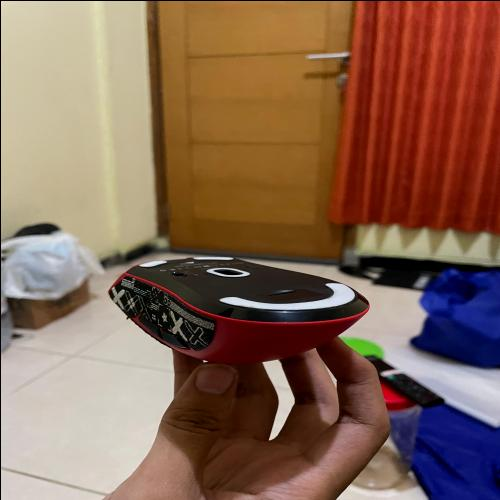mouse: (88, 247, 384, 368)
